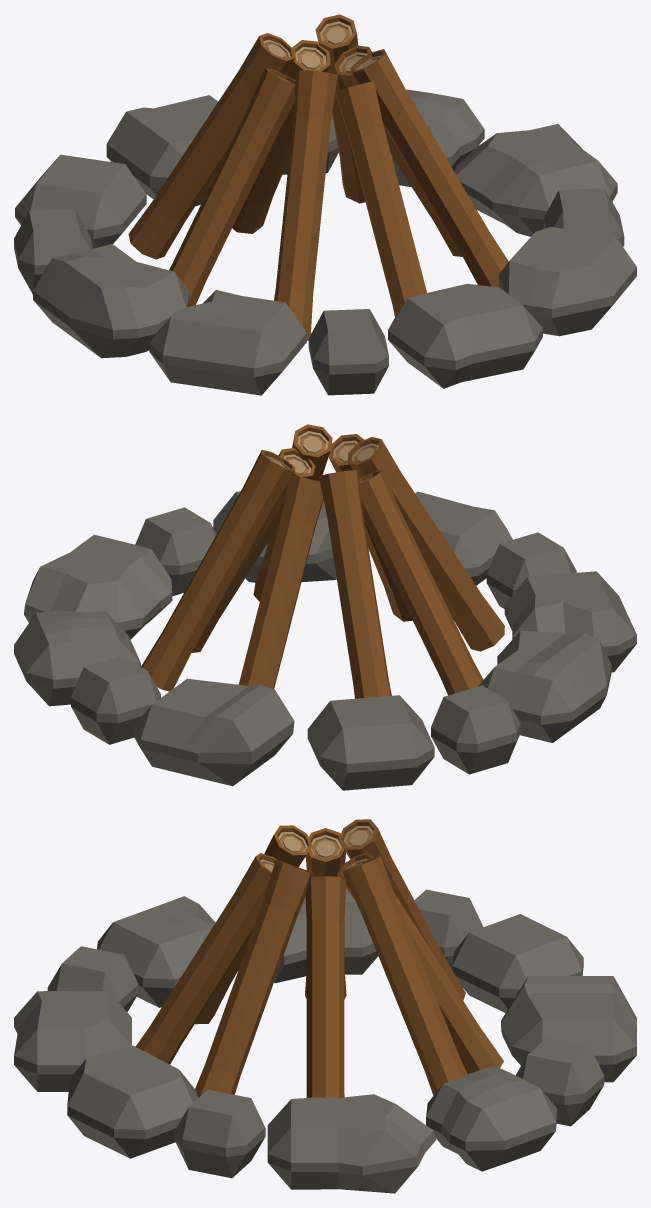
Rendered from FirePit.fbx.
The picture shows the model from 3 angles, top to bottom: view 1: azimuth 30°, elevation 25°; view 2: azimuth 150°, elevation 25°; view 3: azimuth 270°, elevation 25°; orthographic projection. The views are drawn at different scales.
Parts seen in each view (by area): view 1: Stone Ring, Stick Bundle; view 2: Stone Ring, Stick Bundle; view 3: Stone Ring, Stick Bundle.
Part boxes in pixels (x1,y1,x2,y2): Stone Ring: (14,89,636,395); Stick Bundle: (128,14,508,340); Stone Ring: (14,491,636,790); Stick Bundle: (141,424,504,698); Stone Ring: (14,888,636,1193); Stick Bundle: (135,819,503,1097).
Size of the model in its own units: 97.09 by 40.89 by 96.14.
